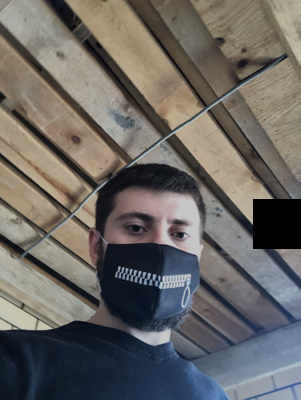with_mask: (102, 204, 202, 331)
